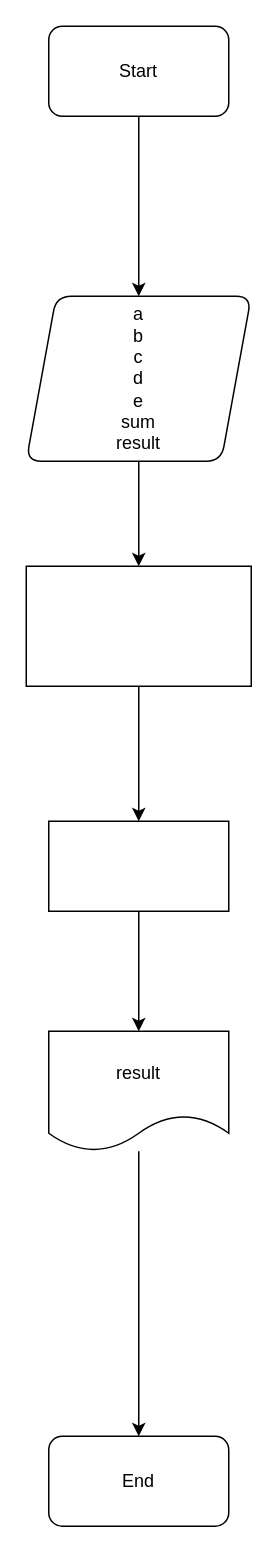
Some shapes in this 278 by 1553 pixel diagram are drawn without their labels. Here are the shapes that lost their labels. From the top down, the centre of each, then its label:
At point (138, 625): "sum = a + b + c + d + e".
At point (138, 865): "result = sum / 5".
